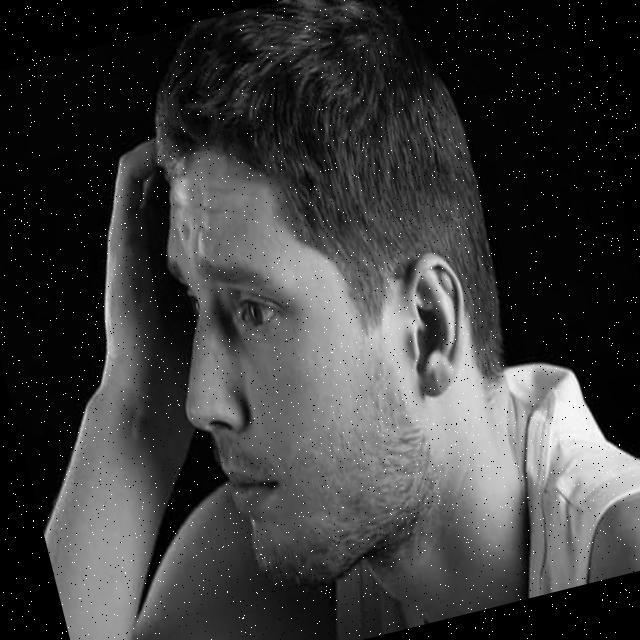Sadness: (124, 134, 371, 604)
